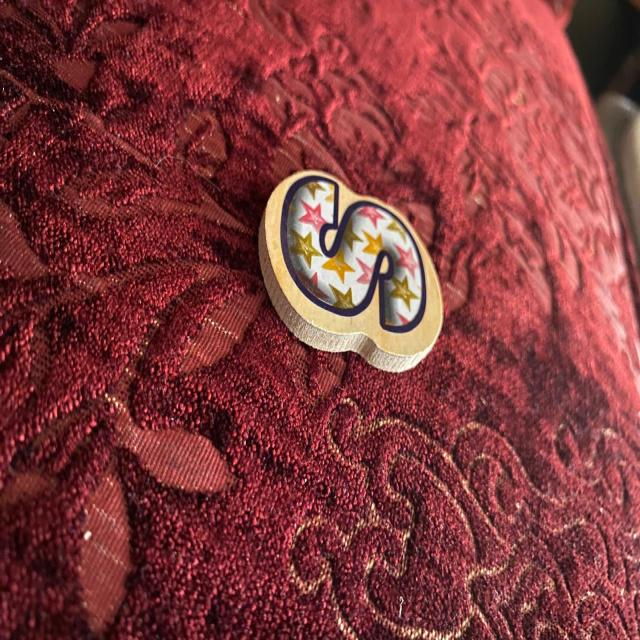S: (259, 171, 441, 371)
